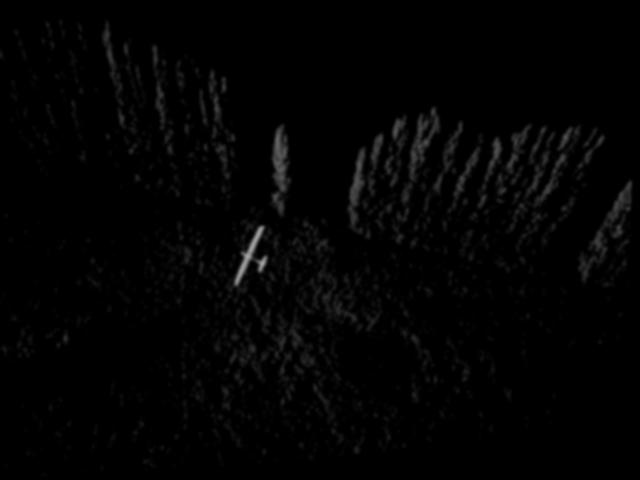hedef: (221, 217, 293, 297)
